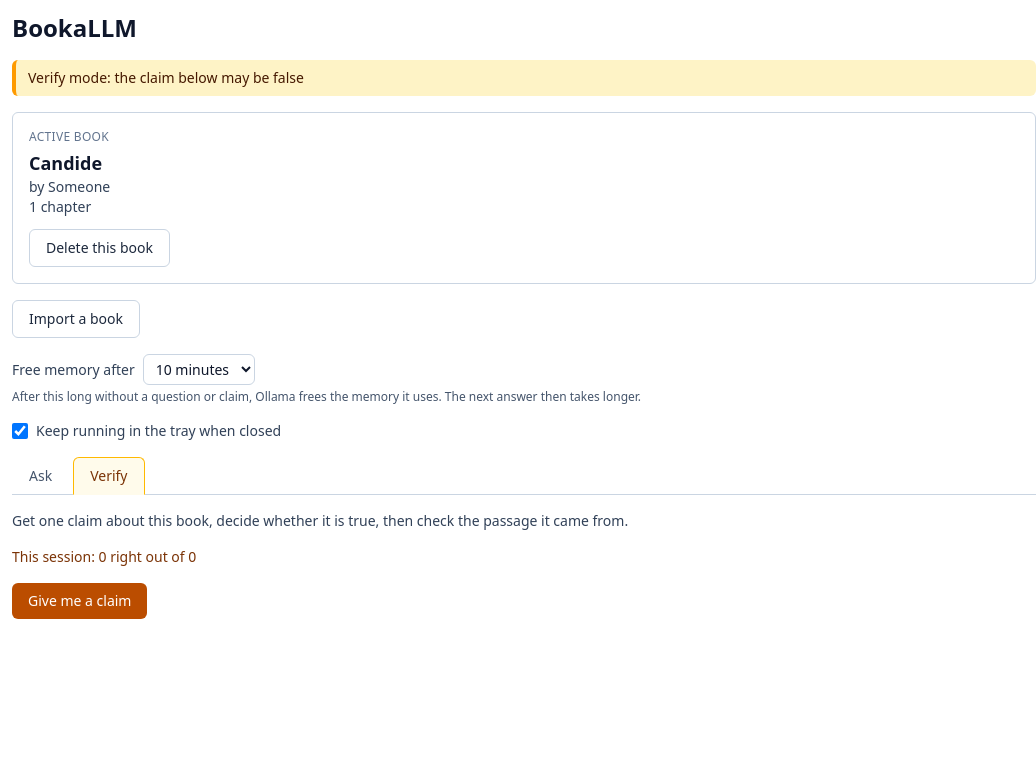
Test case: Verify session › says a true claim was true when judged wrong
Click the button "Give me a claim" at (80, 601), box x1=12 y1=583 x2=148 y2=619
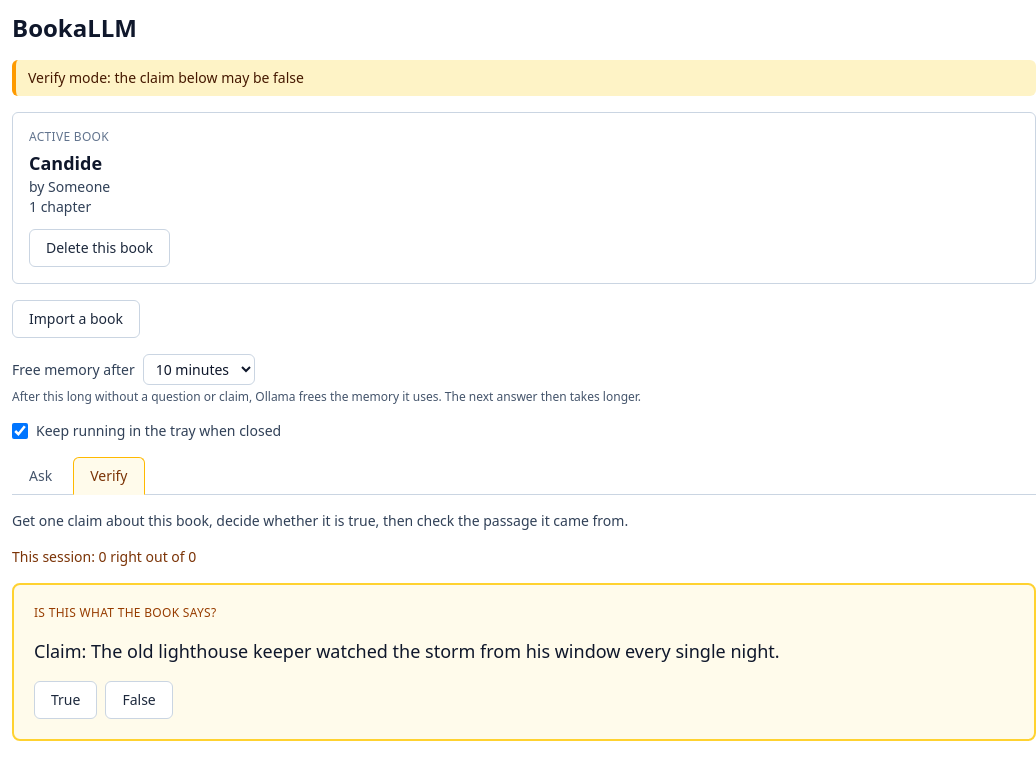
Click the button "False" at (139, 700), box x1=105 y1=681 x2=173 y2=719
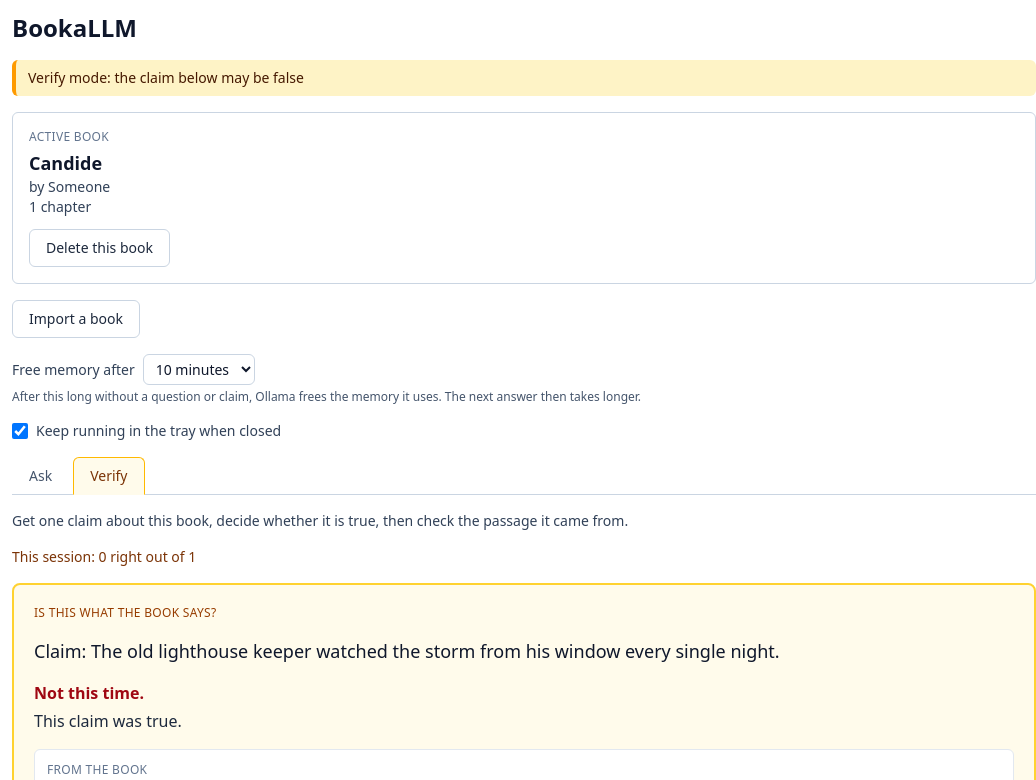
Check: the text "Not this time." is shown, box x1=34 y1=682 x2=144 y2=704
Check: the text "This claim was true." is shown, box x1=34 y1=710 x2=182 y2=732
Check: the text "This session: 0 right out of 1" is shown, box x1=12 y1=547 x2=196 y2=566
